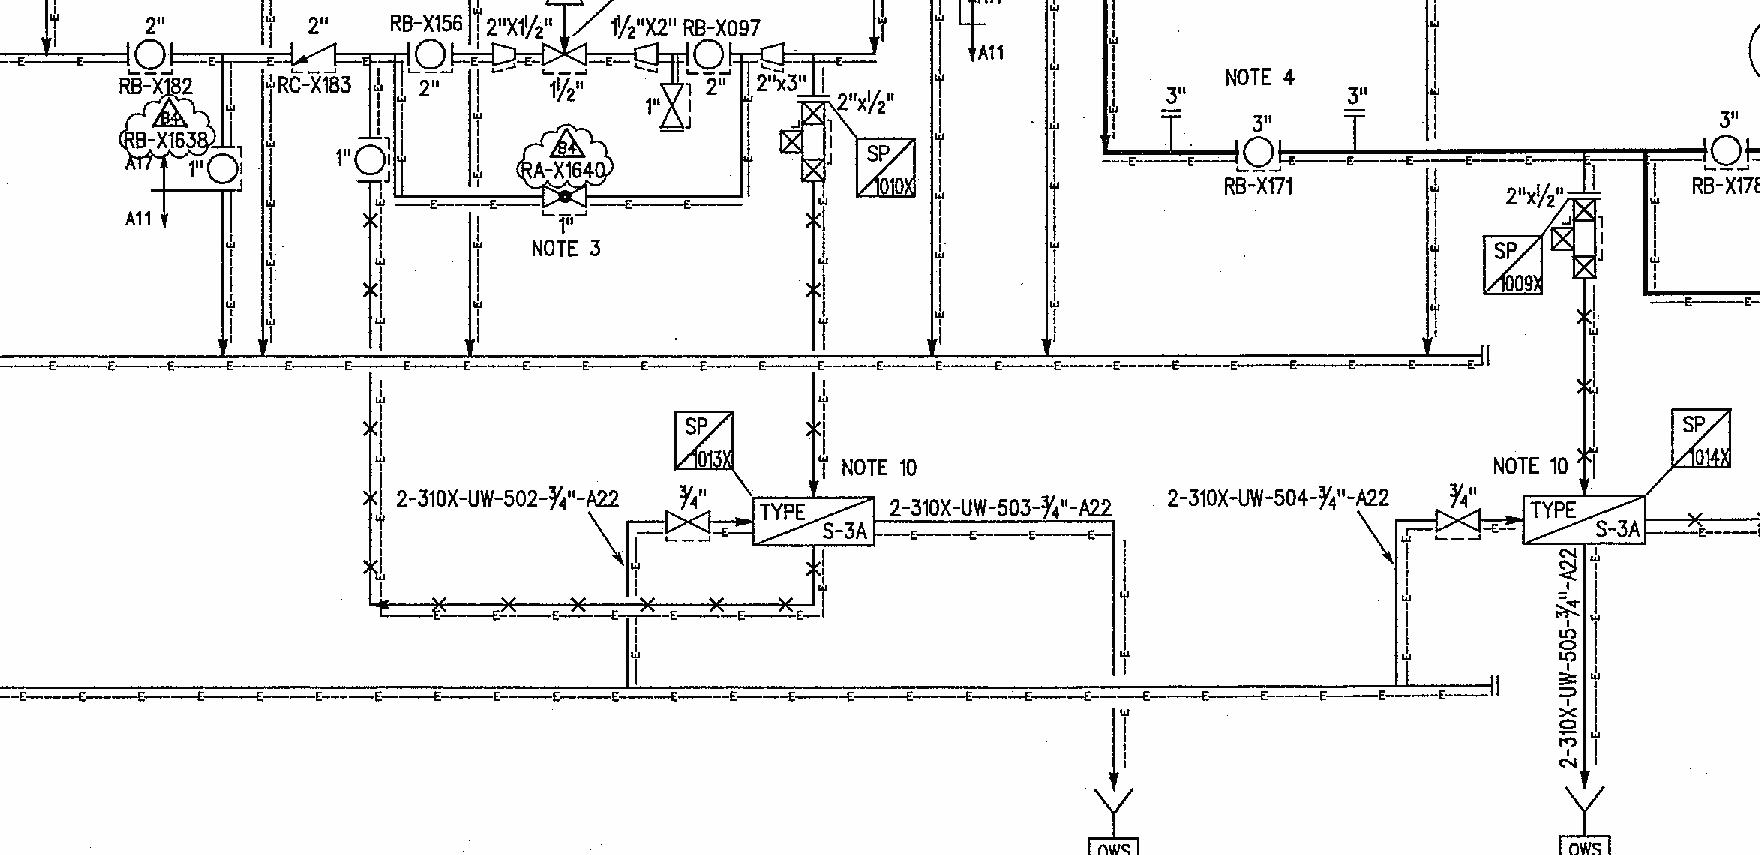2 WAY VALVE: (1548, 193, 1605, 281), (778, 101, 835, 187)
CONCENTRIC REDUCER: (625, 37, 667, 74), (482, 40, 523, 72), (751, 40, 790, 72)
END FLANGED: (1154, 102, 1188, 127), (1333, 103, 1371, 123), (1485, 668, 1505, 704)
FIELD INSTRUMENT: (123, 35, 175, 74), (349, 139, 394, 184), (1236, 131, 1278, 172), (406, 36, 452, 73), (201, 150, 245, 189), (1703, 130, 1747, 168), (690, 37, 728, 77)
GATE VALVE: (535, 37, 594, 75), (658, 505, 715, 542), (1431, 500, 1487, 537), (653, 79, 691, 132)
GLOBE VALVE: (537, 186, 593, 212)
REVISION TRIANGLE: (547, 125, 584, 162)
SPECIAL PIPING ITEM: (1514, 486, 1654, 558), (749, 490, 883, 557), (1474, 227, 1562, 314), (1666, 402, 1740, 474), (664, 404, 739, 475), (850, 135, 920, 204)
TUNDISH OPEN: (1558, 776, 1613, 837), (1080, 785, 1147, 835)
